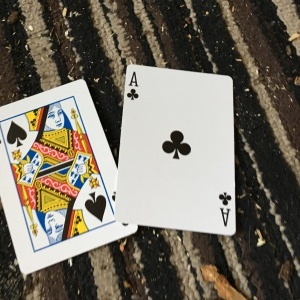card: (114, 63, 243, 237)
